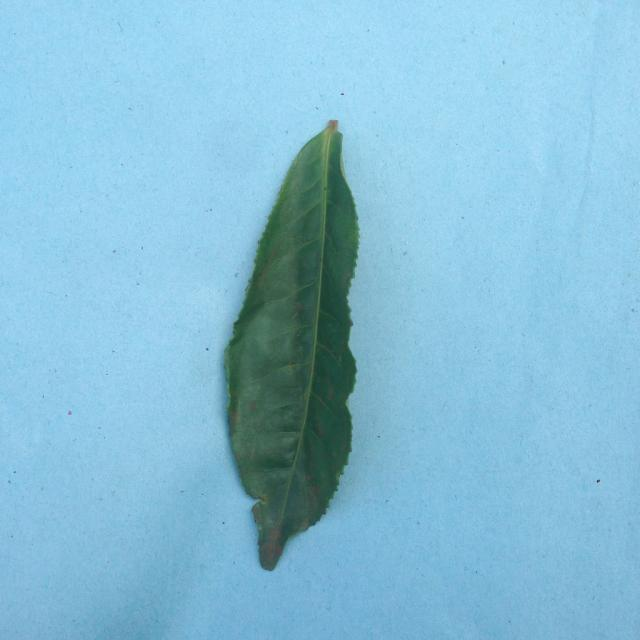Healthy: (211, 82, 391, 564)
